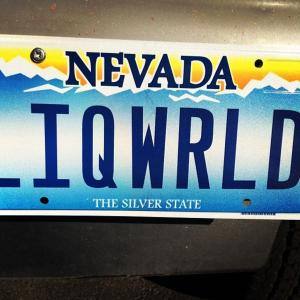Vehicle-registration-plate: (1, 56, 300, 225)
